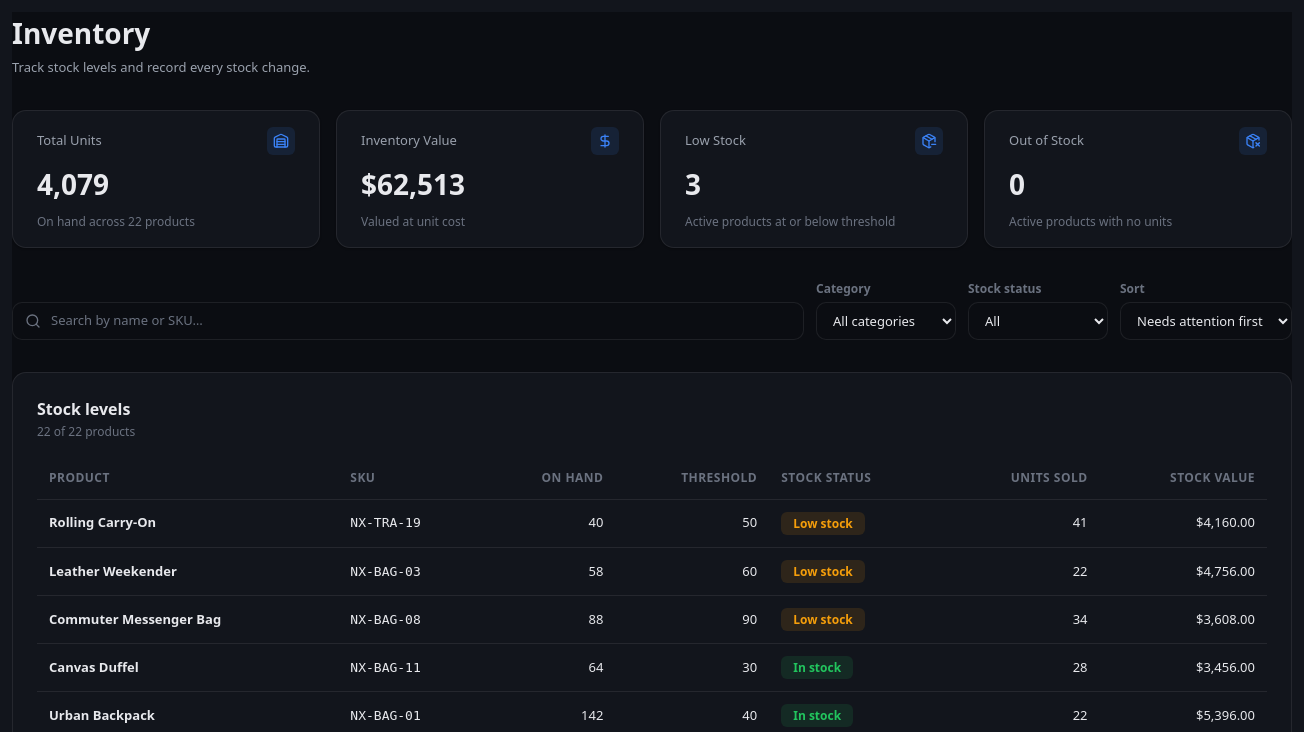
Test case: Inventory page: search, filters and sorting › sorts by sales
Select "Best selling" in the dropdown labelled "Sort": [1206, 320] box [1120,302,1292,340]
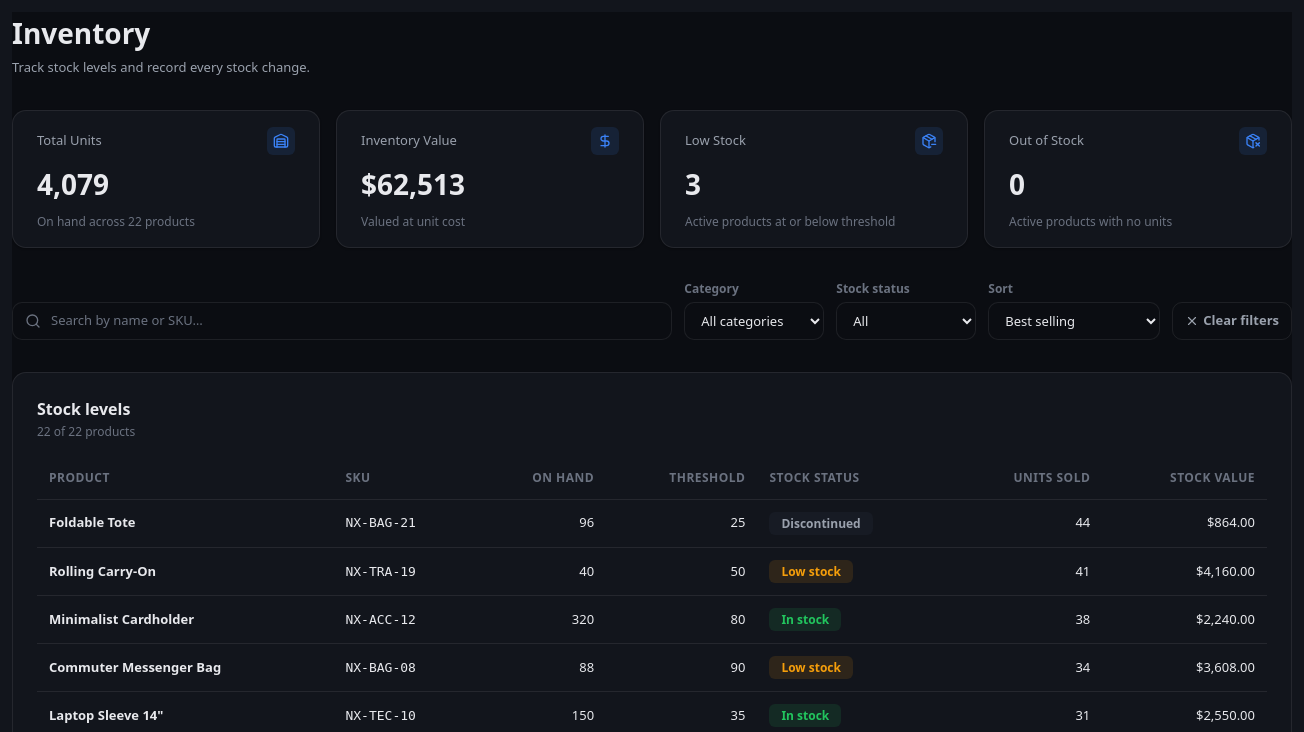
Expected: the button with aria-label "Manage stock for " reads "Foldable Tote", [49,513,136,533]
